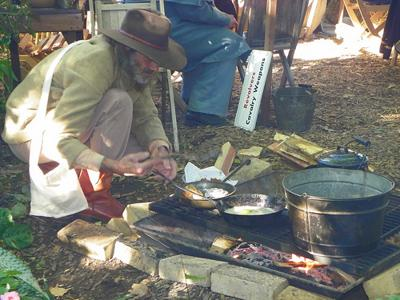person: (6, 14, 183, 222)
